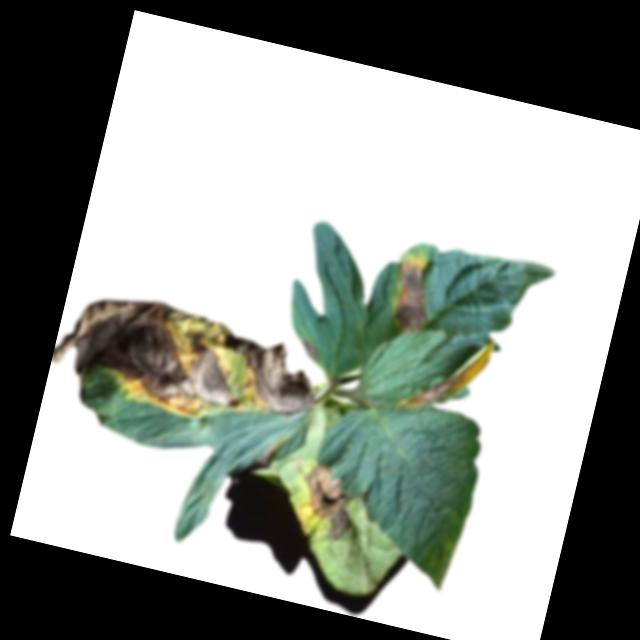Early_blight: (47, 279, 330, 445), (400, 325, 494, 422), (292, 459, 371, 543), (381, 254, 441, 338), (259, 439, 280, 468)
